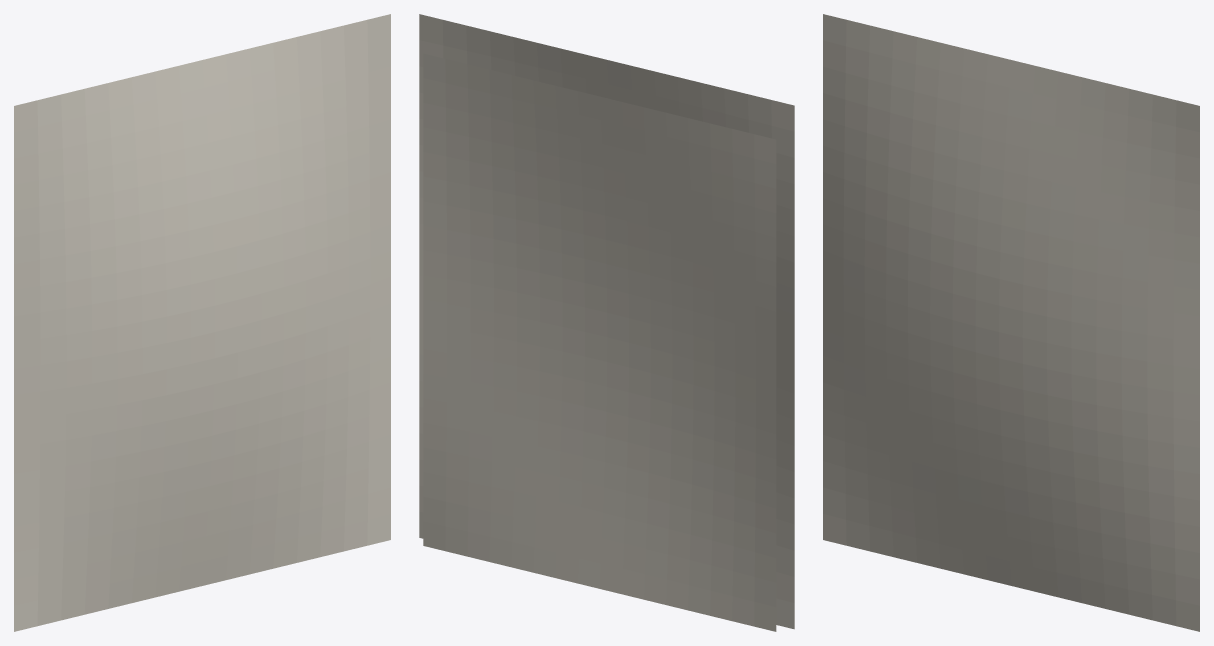
File: spider-web.d8ec3a39.glb
3 renders of one model, left to right at view 1: azimuth 30°, elevation 25°; view 2: azimuth 150°, elevation 25°; view 3: azimuth 330°, elevation 25°, orthographic.
Visible parts, largest first — view 1: spider-web-front; view 2: spider-web-back, spider-web-front; view 3: spider-web-front.
Part boxes in pixels (x1,y1,x2,y2): spider-web-front: (14, 14, 390, 631); spider-web-back: (423, 53, 776, 631); spider-web-front: (419, 14, 794, 629); spider-web-front: (823, 14, 1199, 631).
Size of the model in its own units: 2.1 by 2.8 by 0.19.
1 material, 1 textured.
